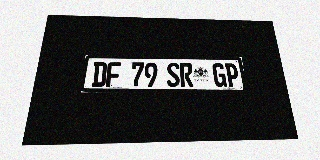7: (130, 62, 144, 87)
9: (144, 62, 157, 87)
D: (91, 62, 107, 87)
F: (106, 62, 121, 87)
G: (212, 63, 227, 87)
P: (224, 63, 240, 87)
R: (179, 63, 193, 87)
S: (167, 63, 180, 87)
